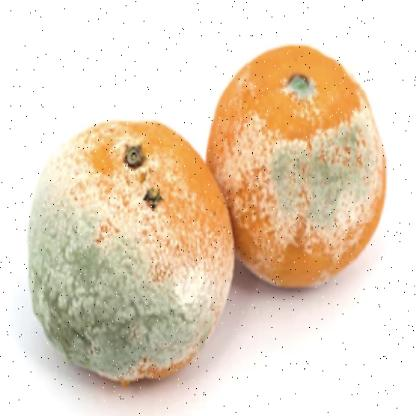rotten: (28, 44, 388, 390)
